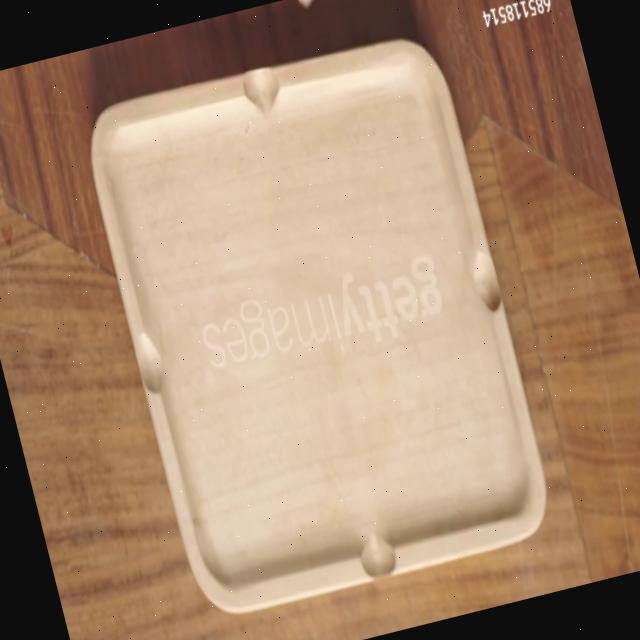tray: (76, 23, 560, 622)
